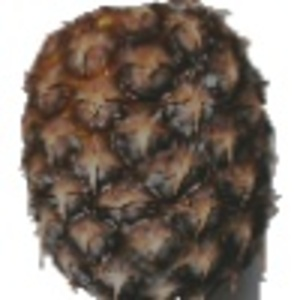abacaxi: (14, 4, 285, 297)
